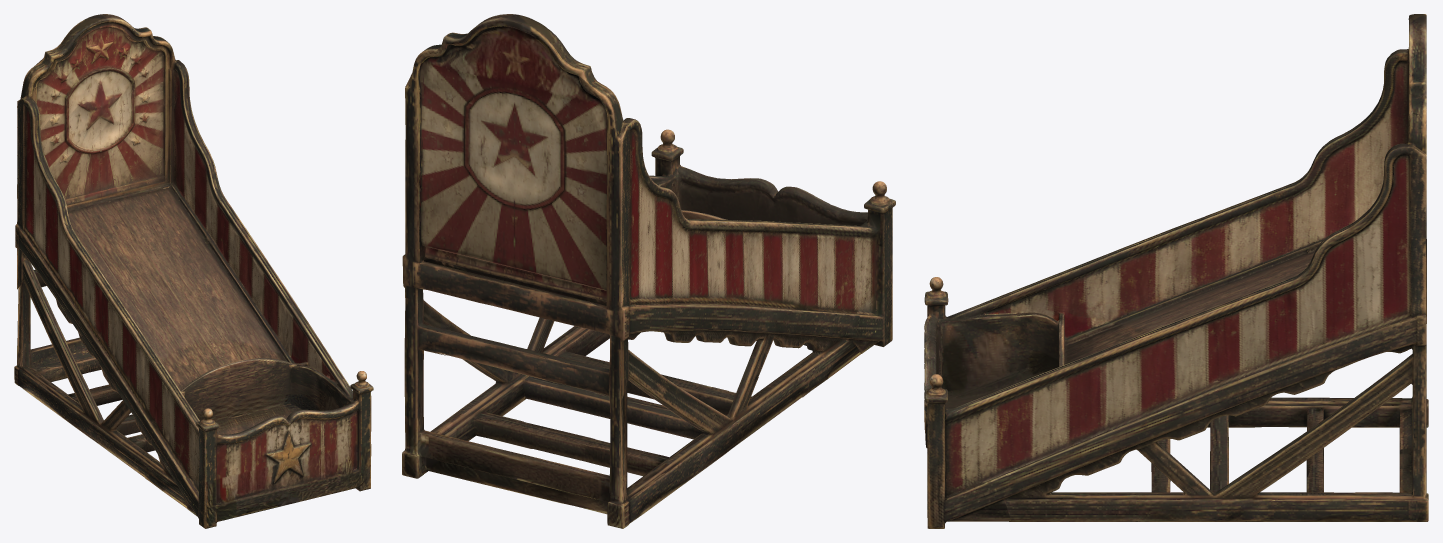
File: Meshy_AI_Starry_Stripes_Rustic_0511055014_texture.fbx
3 views of the same model, side by side, from view 1: azimuth 30°, elevation 25°; view 2: azimuth 150°, elevation 25°; view 3: azimuth 270°, elevation 25° (orthographic). The views are drawn at different scales.
Visible parts, largest first — view 1: Mesh_0; view 2: Mesh_0; view 3: Mesh_0.
Boxes of the visible parts, <box> form: Mesh_0: <box>14,14,373,528</box>; Mesh_0: <box>402,14,895,528</box>; Mesh_0: <box>924,14,1428,528</box>.
Size of the model in its own units: 96.27 by 191 by 191.
1 material, 1 textured.
